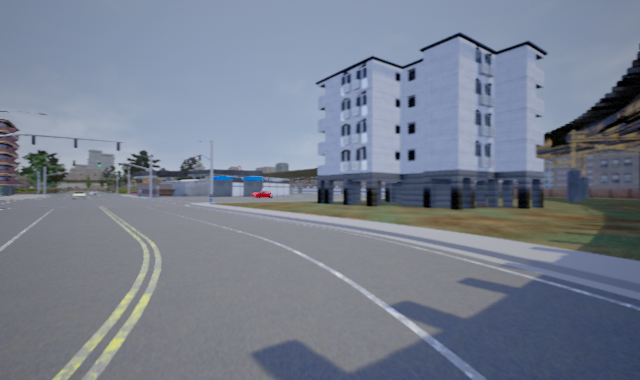vehicle: (71, 190, 87, 201), (250, 191, 271, 199)
